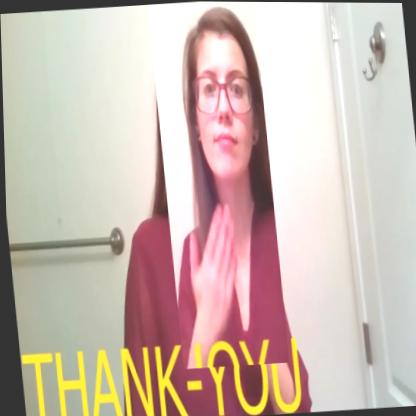ThankYou: (147, 1, 287, 369)
